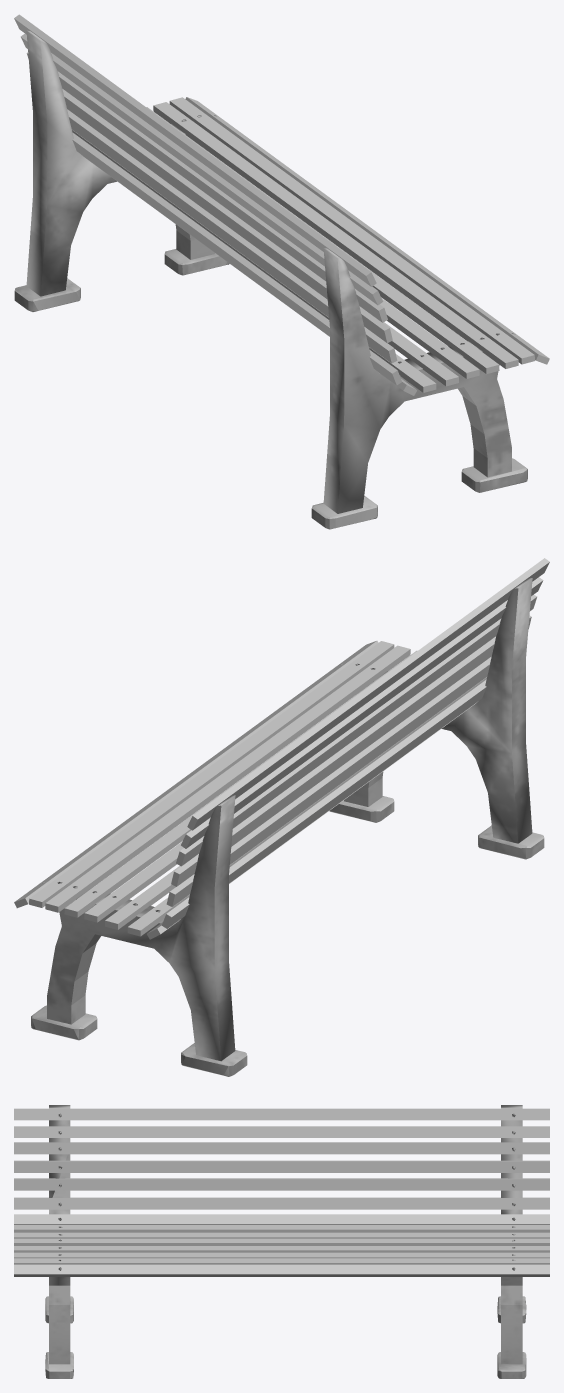
File: Banco_trinagulado.fbx
The picture shows the model from 3 angles, top to bottom: view 1: azimuth 30°, elevation 25°; view 2: azimuth 150°, elevation 25°; view 3: azimuth 270°, elevation 25°; orthographic projection. The views are drawn at different scales.
Parts seen in each view (by area): view 1: Banco_LOD1; view 2: Banco_LOD1; view 3: Banco_LOD1.
Boxes of the visible parts, box(x1,y1,x2,y2) form: Banco_LOD1: box(14, 14, 549, 529); Banco_LOD1: box(14, 558, 549, 1076); Banco_LOD1: box(14, 1105, 549, 1378).
Bounding box in the file's own units: 59.05 × 74.95 × 178.
